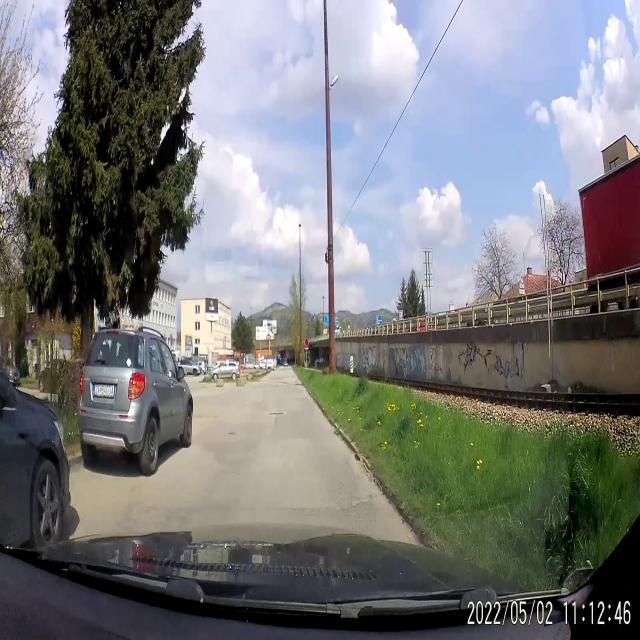Pothole: (268, 408, 290, 422), (228, 423, 238, 440)
